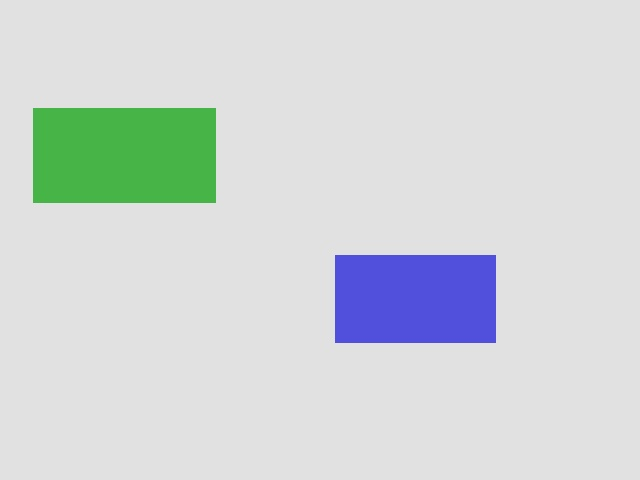tall_box: (335, 255, 495, 342)
wide_box: (33, 108, 215, 202)
